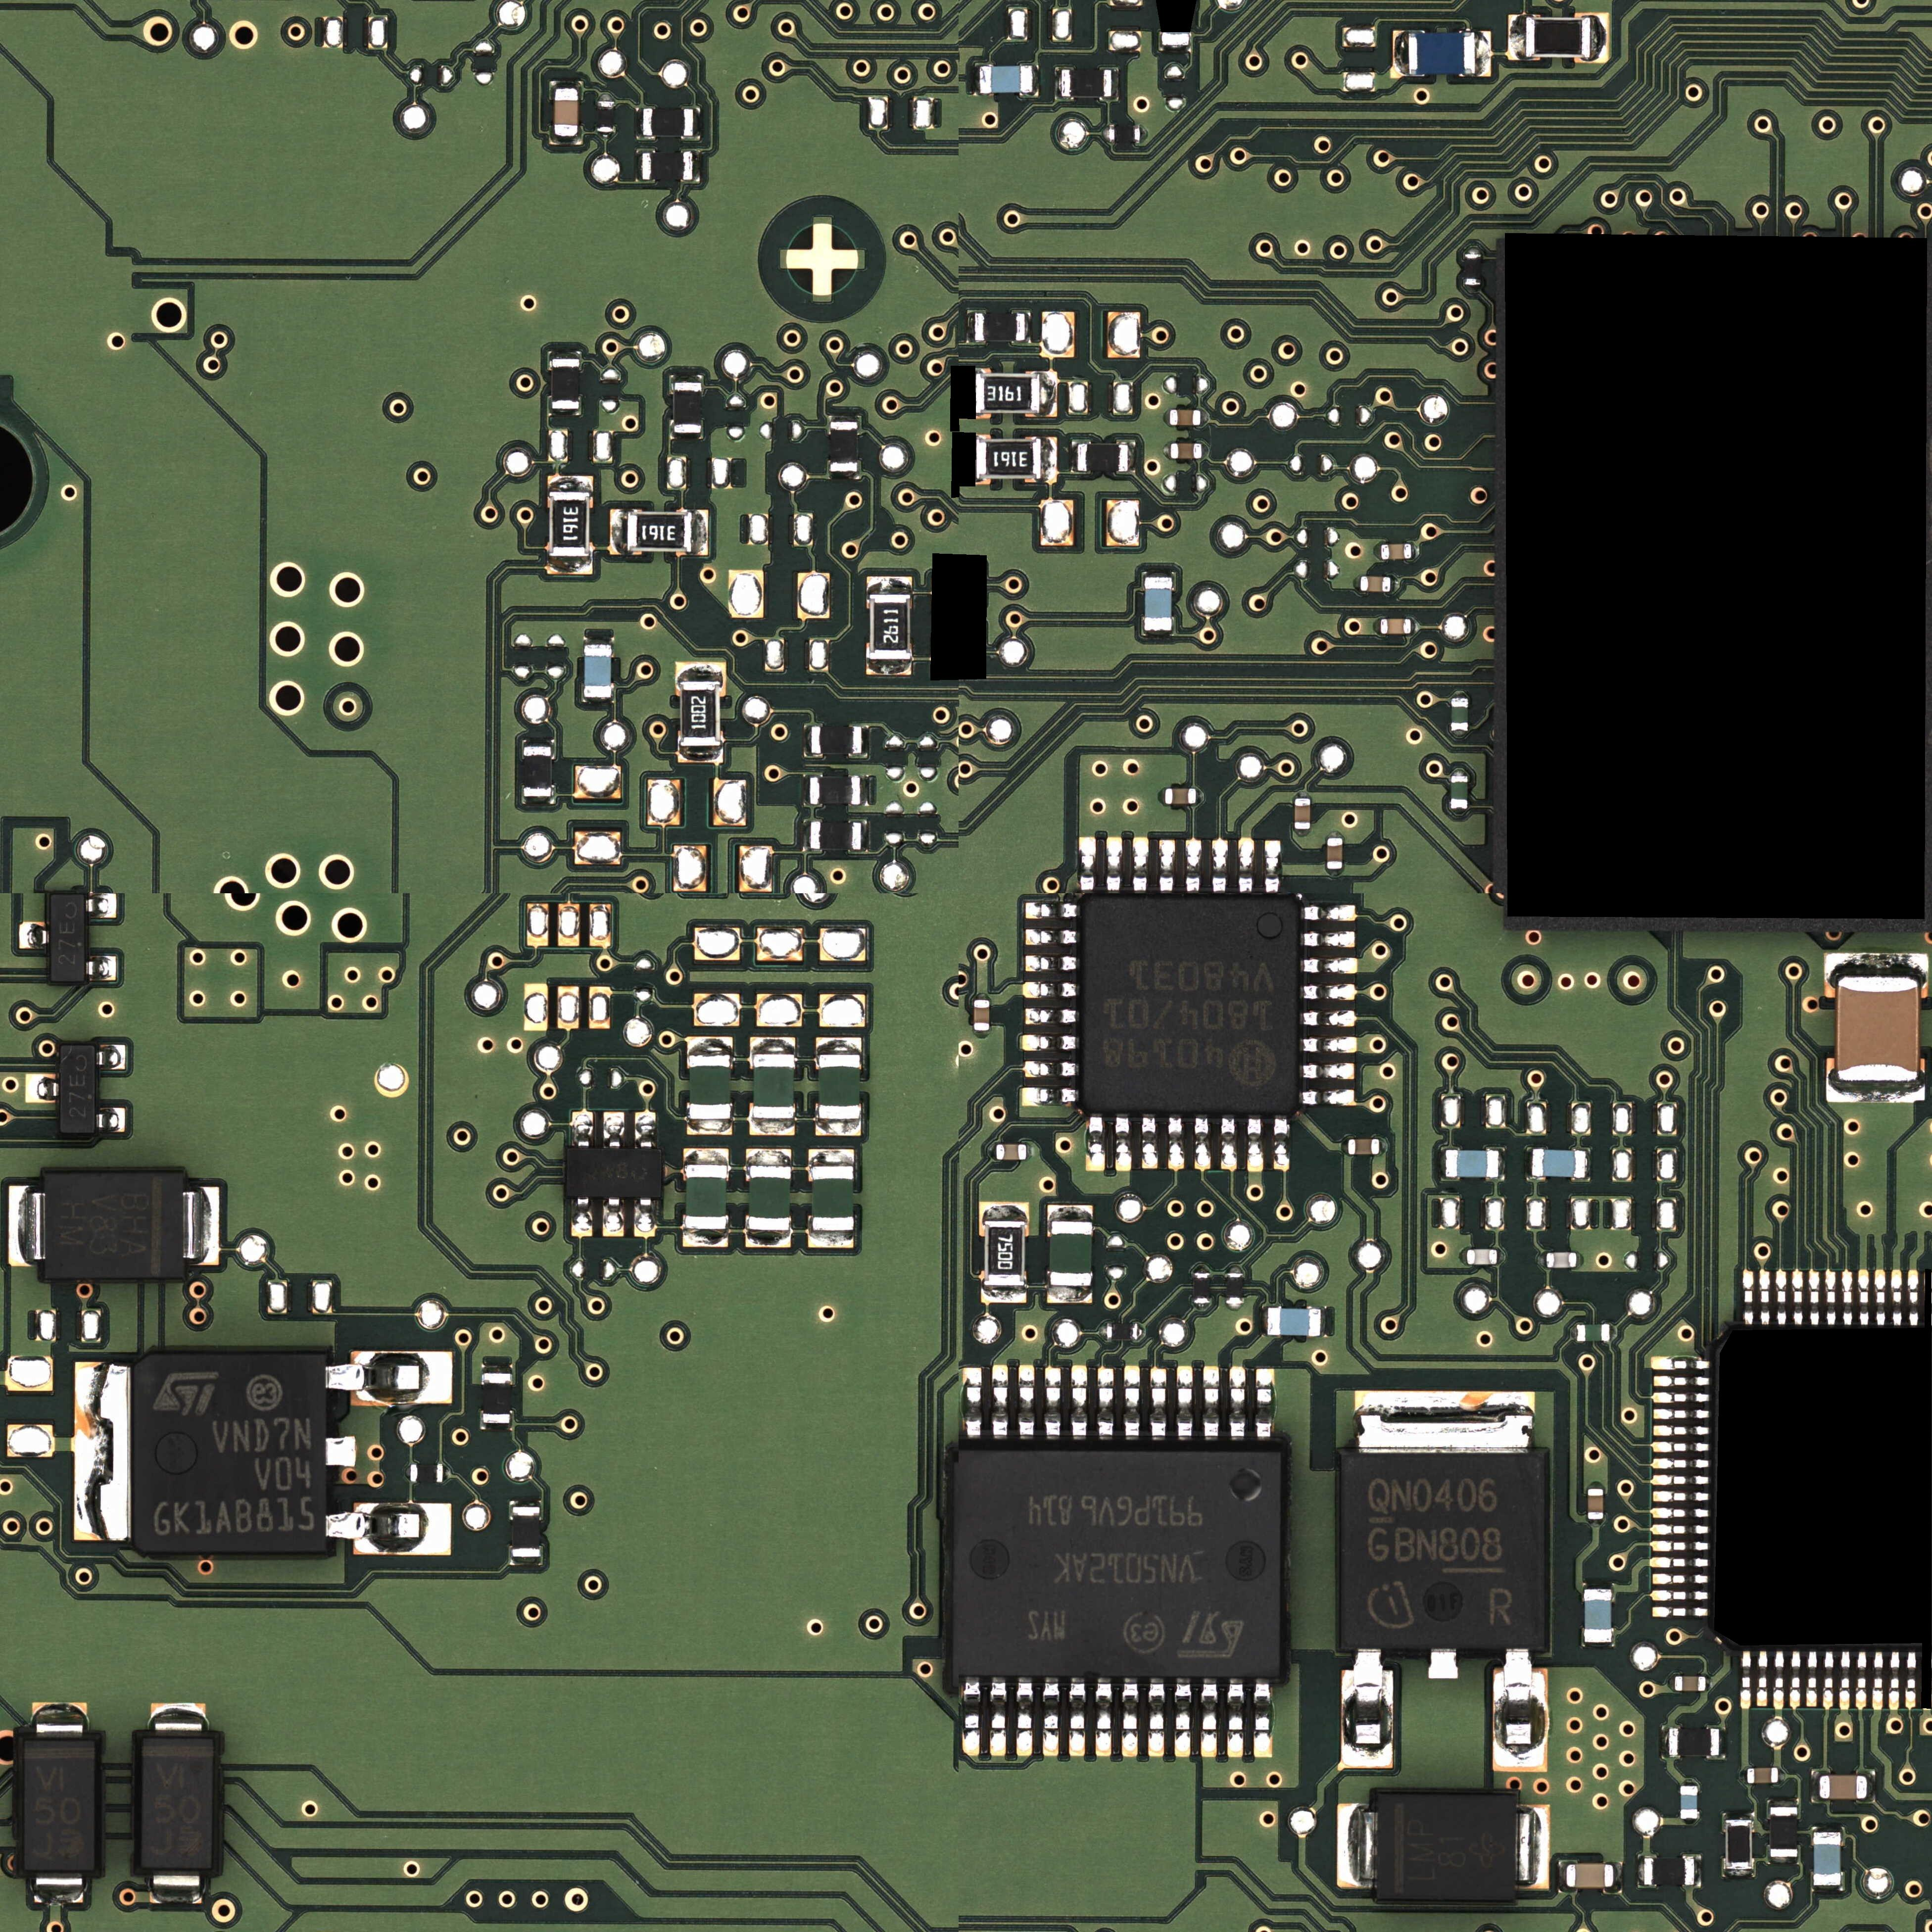Package: (957, 1451, 1283, 1677), (1076, 895, 1304, 1115), (1339, 1458, 1548, 1649), (131, 1353, 327, 1552), (42, 1169, 186, 1279), (1378, 1792, 1516, 1902), (23, 1739, 96, 1872), (142, 1737, 212, 1870), (1835, 977, 1920, 1081), (566, 1148, 662, 1198), (58, 1044, 96, 1134), (50, 893, 87, 982), (1408, 32, 1476, 74), (812, 1166, 855, 1231), (685, 1164, 727, 1230), (688, 1054, 731, 1120), (817, 1054, 860, 1120), (1049, 1221, 1092, 1286), (748, 1166, 791, 1230), (752, 1054, 794, 1118), (869, 594, 909, 660), (626, 511, 692, 552), (679, 681, 720, 747), (548, 492, 589, 557), (977, 439, 1042, 479), (975, 373, 1040, 414), (984, 1221, 1024, 1286), (1525, 18, 1591, 57), (1145, 577, 1173, 630), (980, 65, 1033, 94), (1267, 1307, 1320, 1336), (1583, 1589, 1612, 1642), (1532, 1150, 1585, 1178), (1445, 1150, 1499, 1178), (642, 108, 694, 136), (642, 152, 694, 180), (1077, 444, 1129, 472), (1668, 1729, 1720, 1757), (1644, 1858, 1695, 1886), (584, 644, 610, 697), (552, 359, 580, 409), (830, 421, 858, 471), (810, 777, 860, 805), (524, 747, 552, 796), (511, 1507, 540, 1557), (483, 1373, 511, 1422), (975, 313, 1024, 341), (1062, 69, 1111, 97), (1769, 1806, 1798, 1856), (810, 823, 862, 849), (810, 727, 862, 754), (674, 382, 701, 433), (1813, 1833, 1840, 1884), (1725, 1821, 1752, 1868), (554, 88, 579, 136), (1819, 1775, 1867, 1799), (1566, 1863, 1614, 1888), (1451, 697, 1468, 731), (1451, 775, 1468, 809), (1681, 1785, 1698, 1819), (1576, 1323, 1610, 1341), (410, 1465, 442, 1483), (1169, 409, 1201, 426), (1164, 787, 1196, 805), (1109, 126, 1141, 143), (1348, 1138, 1380, 1155), (1106, 1323, 1138, 1341), (1226, 1272, 1244, 1304), (1463, 255, 1481, 285), (598, 101, 614, 133), (973, 1000, 989, 1031), (1295, 798, 1311, 830), (1380, 619, 1412, 635), (1746, 1767, 1778, 1783), (1194, 1272, 1210, 1304), (1587, 1488, 1603, 1520), (1382, 543, 1412, 559), (1361, 577, 1391, 593), (1327, 839, 1343, 869), (1171, 442, 1201, 458), (1675, 1675, 1706, 1691), (996, 1145, 1026, 1161), (1546, 1253, 1576, 1269), (1467, 1249, 1497, 1265)
Solder: (1353, 1389, 1534, 1456), (74, 1361, 131, 1543), (326, 1352, 453, 1407), (1491, 1651, 1548, 1771), (329, 1502, 451, 1555), (1341, 1651, 1394, 1767), (1338, 1803, 1378, 1888), (1516, 1805, 1550, 1890), (9, 1185, 42, 1267), (186, 1187, 219, 1265), (1824, 954, 1928, 977), (1824, 1083, 1925, 1104), (32, 1702, 87, 1739), (150, 1702, 207, 1737), (150, 1870, 202, 1904), (34, 1872, 85, 1904), (962, 1677, 980, 1757), (962, 1368, 982, 1438), (1254, 1683, 1272, 1759), (1148, 1683, 1166, 1759), (1042, 1683, 1060, 1757), (1016, 1683, 1033, 1757), (1095, 1683, 1113, 1757), (1069, 1683, 1086, 1757), (1256, 1368, 1274, 1438), (1201, 1683, 1217, 1759), (1175, 1683, 1191, 1759), (1228, 1683, 1244, 1759), (991, 1681, 1007, 1757), (1122, 1683, 1138, 1757), (993, 1364, 1008, 1437), (1123, 1366, 1139, 1437), (1203, 1366, 1219, 1437), (1230, 1366, 1246, 1437), (1150, 1366, 1166, 1437), (1177, 1366, 1192, 1437), (1097, 1366, 1113, 1437), (1072, 1366, 1088, 1437), (1021, 1086, 1077, 1106), (25, 1072, 58, 1104), (1023, 1060, 1077, 1079), (1086, 1116, 1106, 1171), (1024, 954, 1077, 973), (1046, 1366, 1060, 1437), (1019, 1366, 1033, 1437), (1591, 12, 1610, 64), (1302, 904, 1357, 922), (1023, 982, 1077, 1000), (1302, 984, 1357, 1001), (1300, 1088, 1355, 1106), (1023, 1033, 1077, 1051), (1302, 1010, 1357, 1028), (1302, 1037, 1357, 1054), (1302, 957, 1357, 975), (676, 662, 725, 681), (1428, 1649, 1458, 1681), (1024, 929, 1077, 947), (1024, 902, 1077, 920), (1302, 931, 1355, 948), (327, 1435, 356, 1467), (1115, 1115, 1131, 1171), (1274, 1116, 1290, 1173), (980, 1203, 1030, 1221), (1185, 839, 1201, 893), (1106, 837, 1122, 892), (1079, 837, 1095, 892), (1238, 839, 1254, 893), (1221, 1116, 1237, 1171), (1141, 1115, 1157, 1169), (1194, 1116, 1210, 1171), (1247, 1118, 1263, 1173), (1168, 1116, 1184, 1171), (1265, 840, 1281, 893), (1159, 839, 1175, 892), (1132, 839, 1148, 892), (1212, 839, 1228, 892), (1024, 1008, 1077, 1024), (1302, 1063, 1355, 1079), (571, 1198, 593, 1237), (603, 1198, 625, 1237), (635, 1198, 656, 1237), (547, 557, 593, 575), (867, 577, 913, 594), (683, 1230, 729, 1247), (686, 1037, 732, 1054), (809, 1148, 855, 1166), (747, 1148, 793, 1166), (816, 1037, 862, 1054), (1040, 372, 1058, 418), (1047, 1286, 1093, 1304), (1507, 14, 1525, 60), (750, 1118, 794, 1136), (1392, 30, 1408, 78), (19, 922, 48, 948), (603, 1113, 625, 1148), (635, 1113, 656, 1148), (571, 1111, 593, 1146), (87, 893, 117, 918), (87, 955, 117, 980), (692, 510, 708, 556), (865, 660, 911, 676), (678, 747, 724, 763), (610, 510, 626, 556), (547, 476, 593, 492), (745, 1231, 791, 1247), (809, 1231, 855, 1247), (814, 1120, 860, 1136), (683, 1148, 729, 1164), (686, 1120, 732, 1136), (750, 1037, 796, 1053), (1042, 437, 1058, 483), (1047, 1205, 1093, 1221), (1476, 30, 1491, 76), (982, 1286, 1026, 1302), (97, 1046, 126, 1070), (97, 1108, 126, 1132), (1739, 1651, 1752, 1707), (1773, 1651, 1785, 1707), (1838, 1652, 1851, 1709), (1872, 1652, 1884, 1709), (1905, 1651, 1918, 1707), (1743, 1269, 1755, 1325), (1759, 1269, 1771, 1325), (1792, 1269, 1805, 1325), (1808, 1269, 1821, 1325), (1824, 1270, 1836, 1327), (1858, 1269, 1870, 1325), (1652, 1606, 1709, 1619), (1652, 1589, 1709, 1601), (1652, 1507, 1709, 1520), (1652, 1523, 1709, 1536), (1652, 1359, 1709, 1371), (1652, 1376, 1709, 1389), (1652, 1408, 1709, 1421), (1652, 1424, 1709, 1437), (1652, 1442, 1709, 1454), (1757, 1651, 1767, 1707), (1790, 1651, 1801, 1707), (1806, 1651, 1817, 1707), (1822, 1652, 1833, 1709), (1856, 1651, 1867, 1707), (1890, 1652, 1900, 1709), (1776, 1269, 1787, 1325), (1842, 1270, 1852, 1327), (1875, 1270, 1886, 1327), (1893, 1270, 1904, 1327), (1909, 1269, 1920, 1325), (1652, 1557, 1709, 1568), (1652, 1575, 1709, 1585), (1652, 1491, 1709, 1502), (1652, 1541, 1709, 1552), (1652, 1392, 1709, 1403), (1652, 1458, 1709, 1468), (1652, 1476, 1709, 1486), (1867, 1771, 1877, 1803), (548, 136, 582, 145), (510, 1557, 543, 1566), (522, 796, 554, 805), (481, 1364, 513, 1373), (1810, 1769, 1819, 1801), (1767, 1798, 1799, 1806), (1614, 1861, 1622, 1893), (550, 350, 580, 359), (694, 108, 702, 138), (860, 775, 869, 805), (481, 1422, 511, 1431), (511, 1499, 541, 1507), (1320, 1306, 1329, 1336), (968, 310, 975, 343), (1525, 1146, 1532, 1180), (1637, 1854, 1644, 1888), (1582, 1642, 1615, 1649), (671, 433, 702, 441), (550, 81, 582, 88), (635, 108, 642, 140), (671, 375, 702, 382), (635, 150, 642, 182), (548, 409, 580, 416), (828, 472, 860, 479), (694, 150, 701, 182), (1129, 441, 1136, 472), (971, 64, 978, 96), (1054, 67, 1062, 99), (1070, 441, 1077, 472), (1499, 1148, 1506, 1180), (1767, 1858, 1799, 1865), (1723, 1870, 1755, 1877), (1812, 1824, 1844, 1831), (1559, 1859, 1566, 1891), (1695, 1854, 1702, 1886), (1812, 1886, 1844, 1893), (1661, 1725, 1668, 1757), (1720, 1727, 1727, 1759), (830, 414, 860, 421), (862, 821, 869, 851), (862, 725, 869, 755), (582, 697, 612, 704), (524, 740, 554, 747), (803, 775, 810, 805), (803, 821, 810, 851), (805, 725, 812, 755), (1143, 630, 1173, 637), (1438, 1148, 1445, 1178), (1723, 1812, 1753, 1819), (1583, 1582, 1614, 1589), (1161, 46, 1191, 53), (584, 637, 612, 644), (1024, 313, 1031, 341), (1113, 67, 1118, 99), (1033, 64, 1039, 96), (1143, 571, 1175, 577), (1585, 1148, 1591, 1180), (1261, 1306, 1267, 1336), (1465, 246, 1483, 255), (1451, 809, 1468, 817), (1200, 410, 1208, 426), (1162, 442, 1171, 458), (1293, 828, 1311, 835), (1159, 787, 1166, 805), (1373, 617, 1380, 635), (973, 1030, 991, 1037), (1226, 1302, 1244, 1309), (1026, 1143, 1033, 1161), (1463, 285, 1481, 292), (1451, 690, 1468, 697), (1451, 731, 1468, 738), (1610, 1323, 1617, 1341), (1162, 409, 1169, 425), (1102, 126, 1109, 142), (1201, 442, 1208, 458), (1327, 832, 1343, 839), (1327, 869, 1343, 876), (1375, 543, 1382, 559), (1391, 577, 1398, 593), (1380, 1139, 1387, 1155), (973, 993, 989, 1000), (1138, 1323, 1145, 1339), (1226, 1267, 1242, 1274), (1451, 768, 1467, 775), (1460, 1249, 1467, 1265), (1539, 1253, 1546, 1269), (1778, 1767, 1785, 1783), (444, 1463, 449, 1483), (1681, 1819, 1700, 1824), (1196, 789, 1203, 803), (989, 1145, 996, 1159), (1341, 1139, 1348, 1154), (1497, 1249, 1504, 1263), (1576, 1253, 1583, 1267), (1355, 575, 1361, 593), (1192, 1304, 1210, 1309), (1587, 1483, 1605, 1488), (1681, 1780, 1698, 1785), (405, 1465, 410, 1481), (598, 96, 614, 101), (598, 133, 614, 138), (1295, 793, 1311, 798), (1412, 543, 1417, 559), (1412, 619, 1417, 635), (1194, 1267, 1210, 1272), (1100, 1323, 1106, 1339), (1571, 1325, 1576, 1341), (1741, 1767, 1746, 1783), (1670, 1675, 1675, 1691), (1706, 1675, 1711, 1691), (1141, 127, 1146, 142), (1589, 1520, 1603, 1525)
